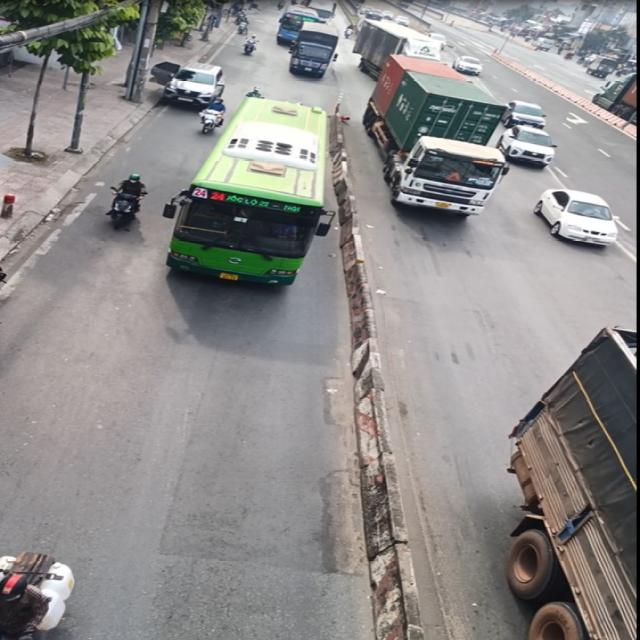bus: (160, 96, 333, 300)
car: (529, 181, 626, 250), (162, 61, 228, 108)
motorbike: (106, 168, 157, 233)
truck: (368, 53, 512, 219)
